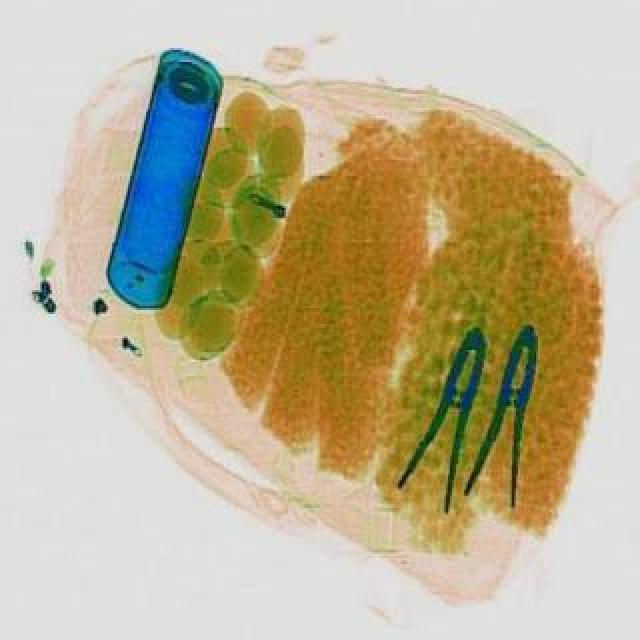wrench: (394, 326, 510, 522), (464, 324, 560, 512)
